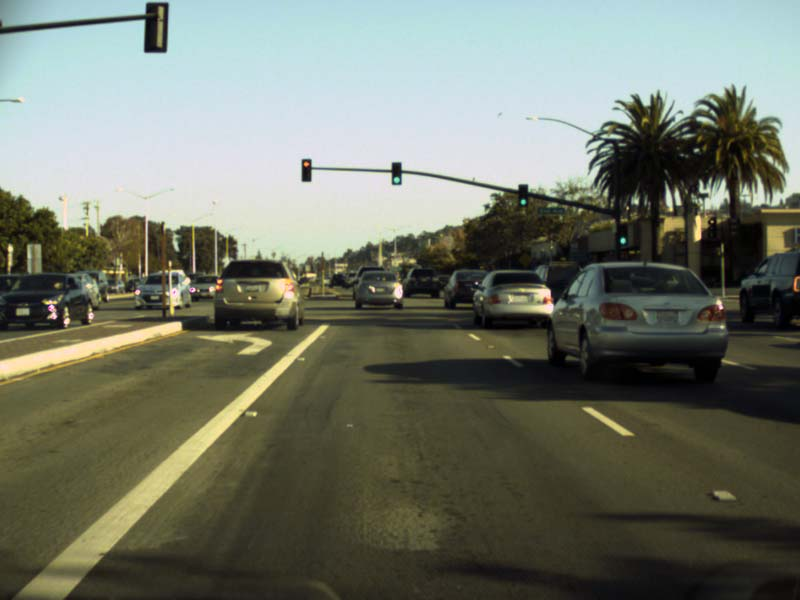Green: (391, 161, 401, 186), (518, 184, 528, 207), (619, 224, 627, 245)
Red: (301, 158, 311, 182)
